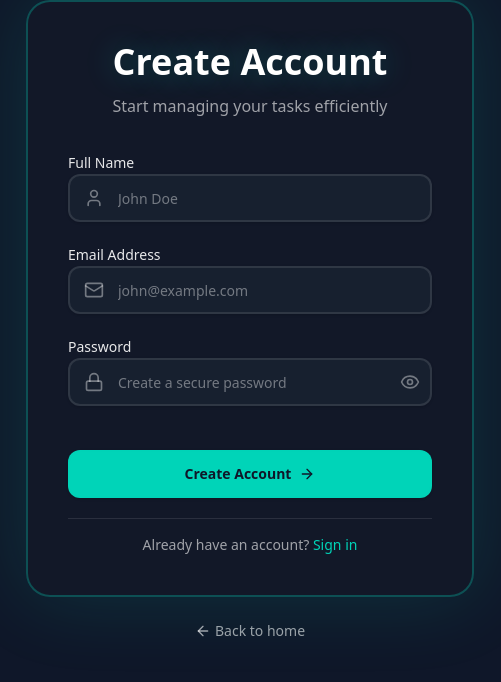
Test: Sign-Up Flow Integration Test › should validate name minimum length
The image size is (501, 682).
Type "a" into the field labelled "Full Name".
click(250, 198); type("a")  # box [68,174,432,222]
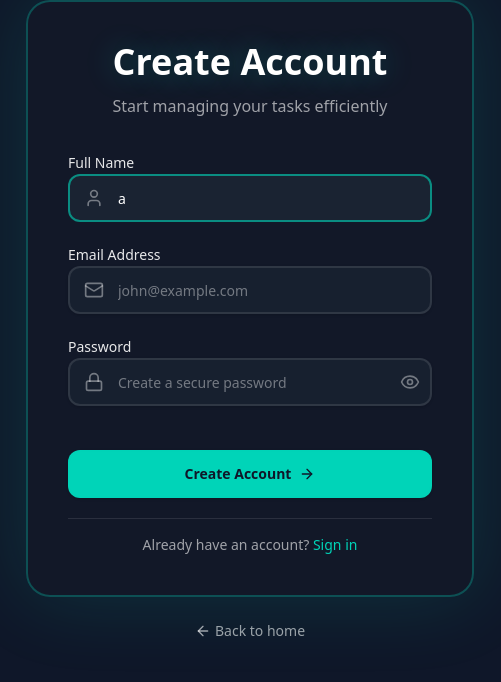
Press Tab
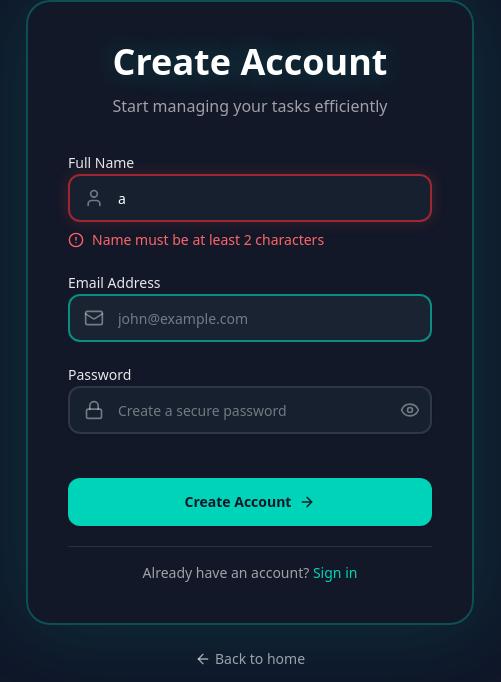
Expected: the text "Name must be at least 2 characters" is shown, [92,230,324,250]
